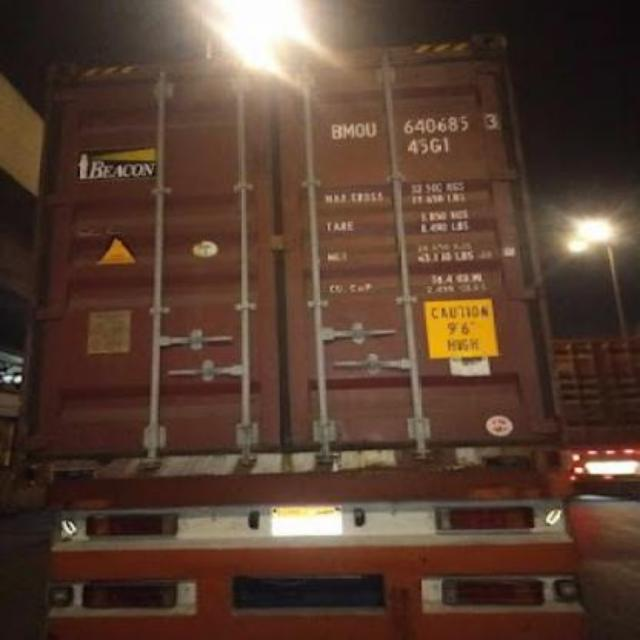0: (422, 112, 434, 136)
3: (482, 108, 498, 130)
4: (412, 112, 424, 138)
5: (456, 110, 469, 134)
6: (434, 110, 448, 140), (402, 114, 412, 138)
8: (446, 110, 458, 138)
B: (328, 121, 340, 142)
M: (341, 120, 354, 142)
O: (354, 120, 364, 142)
U: (364, 118, 378, 140)
